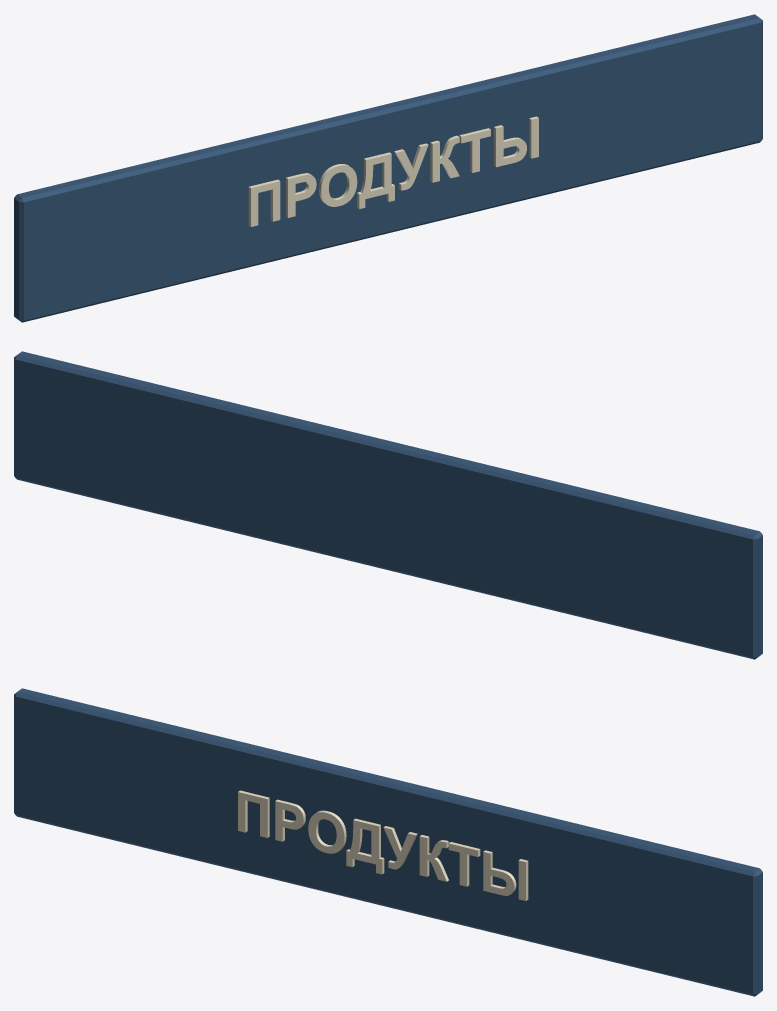
The model's file is sign_produkty.glb.
3 renders of one model, top to bottom at view 1: azimuth 30°, elevation 25°; view 2: azimuth 150°, elevation 25°; view 3: azimuth 330°, elevation 25°, orthographic.
Parts seen in each view (by area): view 1: ShopSign; view 2: ShopSign; view 3: ShopSign.
Boxes of the visible parts, x1=… form: ShopSign: x1=14, y1=14, x2=762, y2=322; ShopSign: x1=14, y1=351, x2=762, y2=659; ShopSign: x1=14, y1=688, x2=762, y2=996.
Size of the model in its own units: 5 by 0.8 by 0.125.
